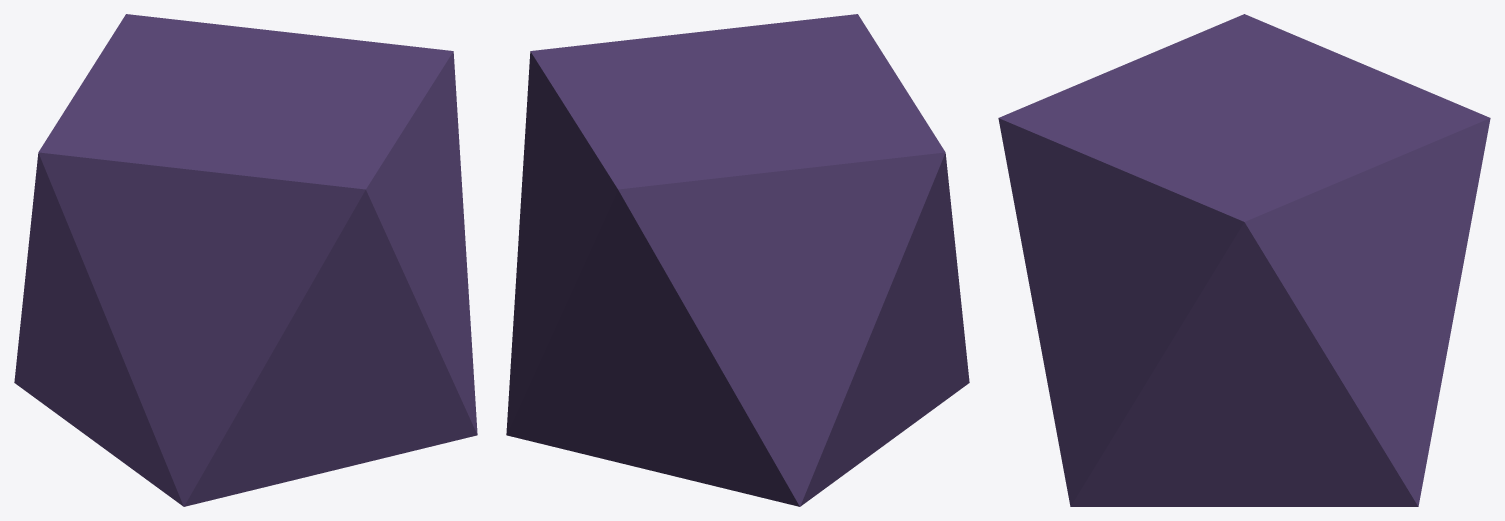
The model's file is Antiprismacuadrangular.gltf.
3 renders of one model, left to right at view 1: azimuth 30°, elevation 25°; view 2: azimuth 150°, elevation 25°; view 3: azimuth 270°, elevation 25°, orthographic. The views are drawn at different scales.
Visible parts, largest first — view 1: Antiprismacuadrado; view 2: Antiprismacuadrado; view 3: Antiprismacuadrado.
Boxes of the visible parts, x1,y1,x2,y2 form: Antiprismacuadrado: (14, 14, 477, 506); Antiprismacuadrado: (506, 14, 969, 506); Antiprismacuadrado: (998, 14, 1490, 506).
Bounding box in the file's own units: 9.64 × 6.82 × 9.64.
